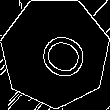O_NW: (24, 22, 87, 82)
